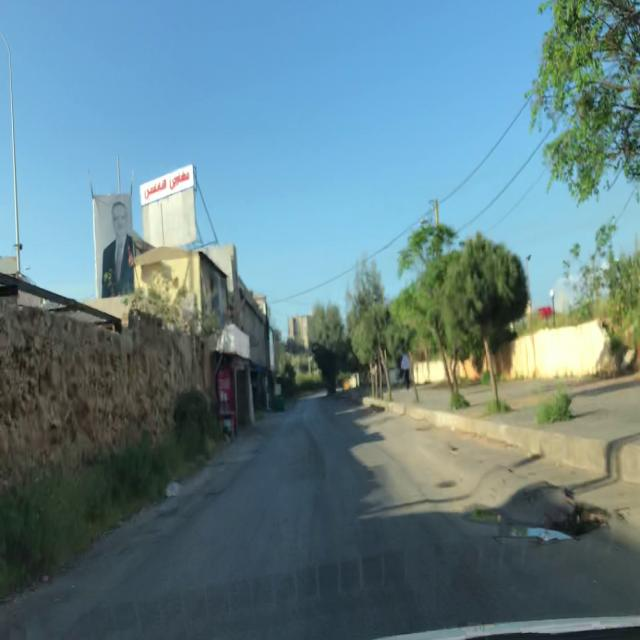Pothole: (498, 503, 611, 547)
